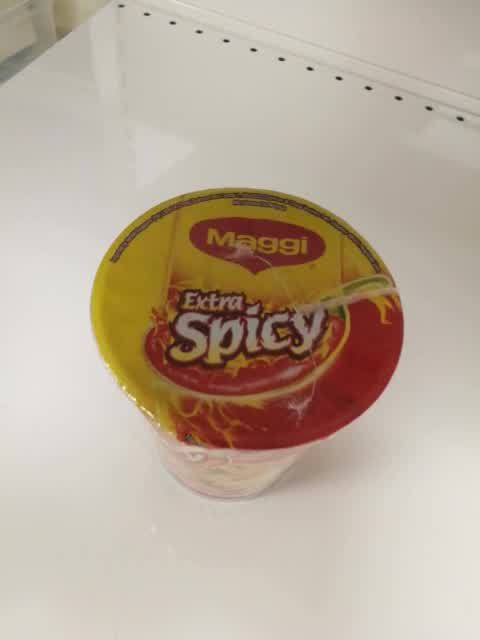maggi: (89, 187, 404, 502)
